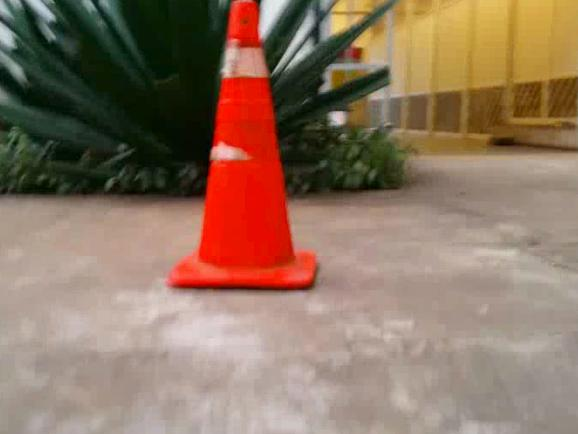0 cone: (168, 0, 318, 287)
